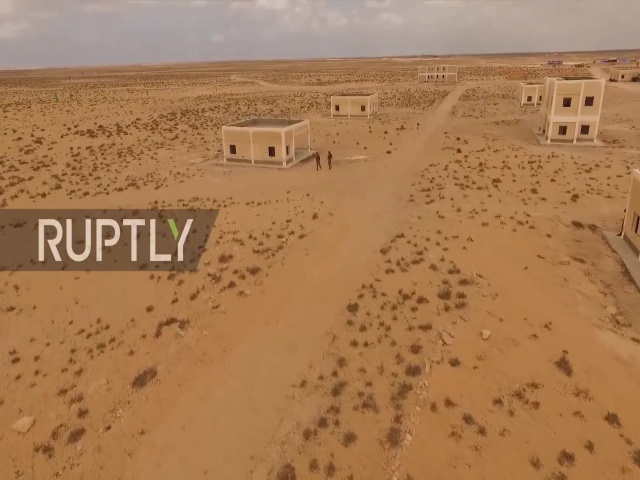person: (313, 151, 323, 171), (325, 150, 334, 170)
